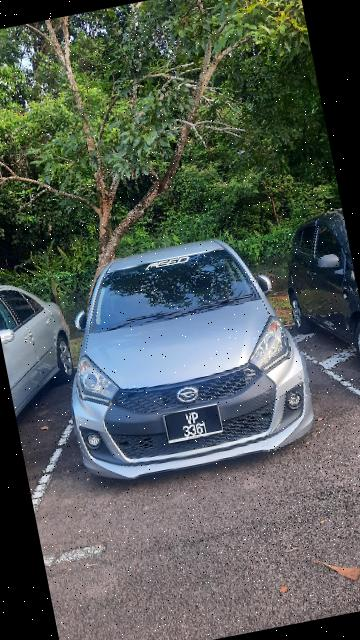License_Plate: (163, 403, 237, 448)
car: (39, 224, 324, 498)
